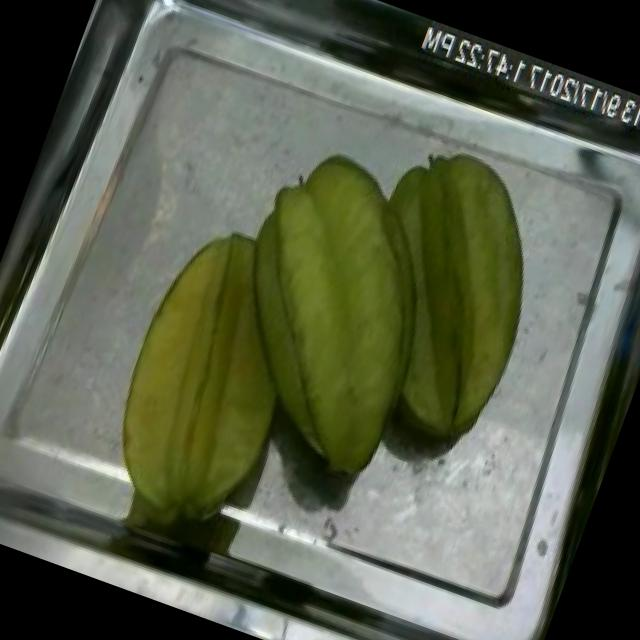fruit: (164, 117, 499, 508), (71, 202, 351, 564), (350, 139, 588, 474)
